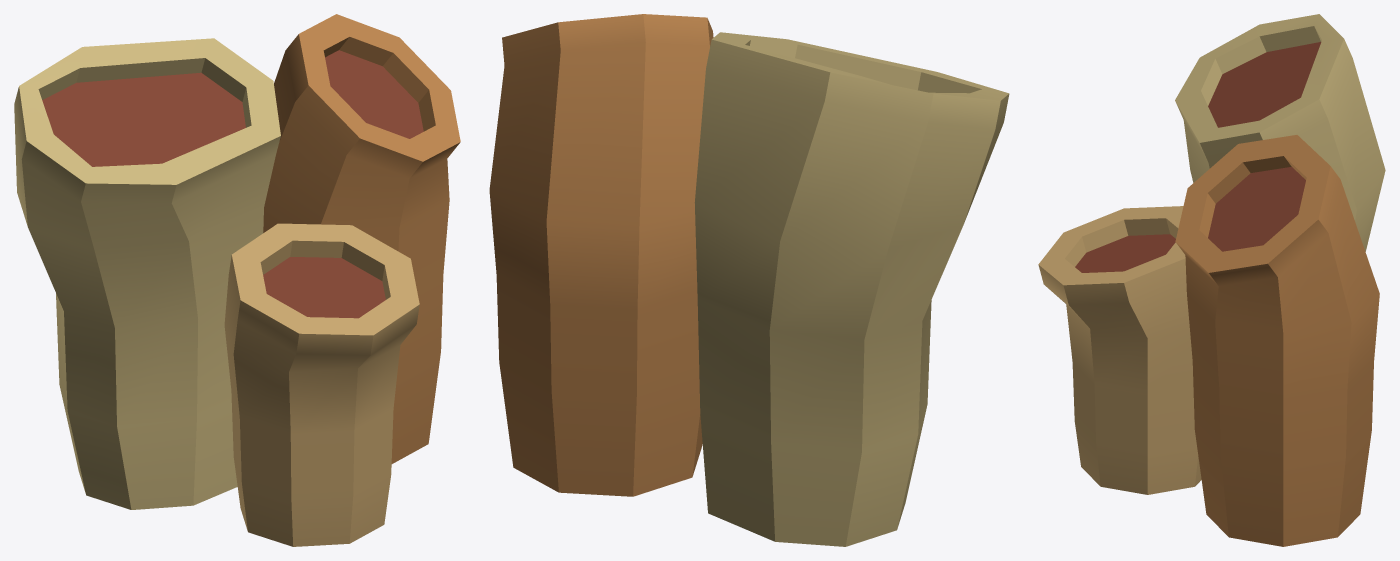
File: Coral03.fbx
The picture shows the model from 3 angles, left to right: view 1: azimuth 30°, elevation 25°; view 2: azimuth 150°, elevation 25°; view 3: azimuth 270°, elevation 25°; orthographic projection. The views are drawn at different scales.
Parts seen in each view (by area): view 1: Coral02; view 2: Coral02; view 3: Coral02.
Boxes of the visible parts, <box> form: Coral02: <box>14,14,460,546</box>; Coral02: <box>489,14,1009,546</box>; Coral02: <box>1038,14,1385,546</box>.
Size of the model in its own units: 32.83 by 30.63 by 25.68.
